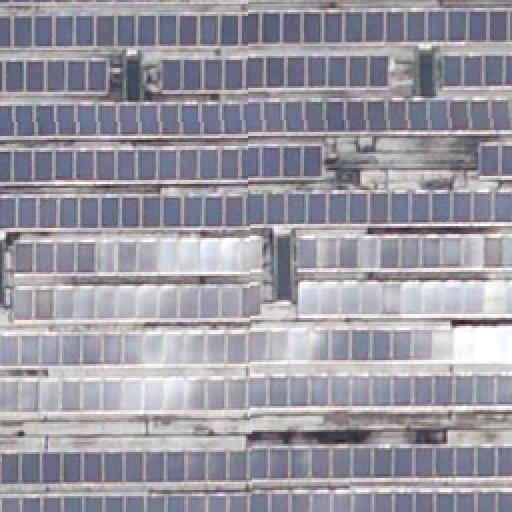solar-panel: (0, 370, 512, 414), (0, 191, 512, 233), (0, 442, 512, 482), (0, 326, 512, 366), (0, 10, 512, 50), (0, 101, 512, 139), (0, 488, 512, 512), (1, 146, 327, 182), (11, 236, 261, 276), (10, 282, 258, 322), (162, 57, 390, 95), (294, 233, 512, 271), (296, 280, 512, 316), (0, 60, 108, 96), (440, 55, 512, 89), (476, 143, 512, 177), (0, 0, 128, 4)
